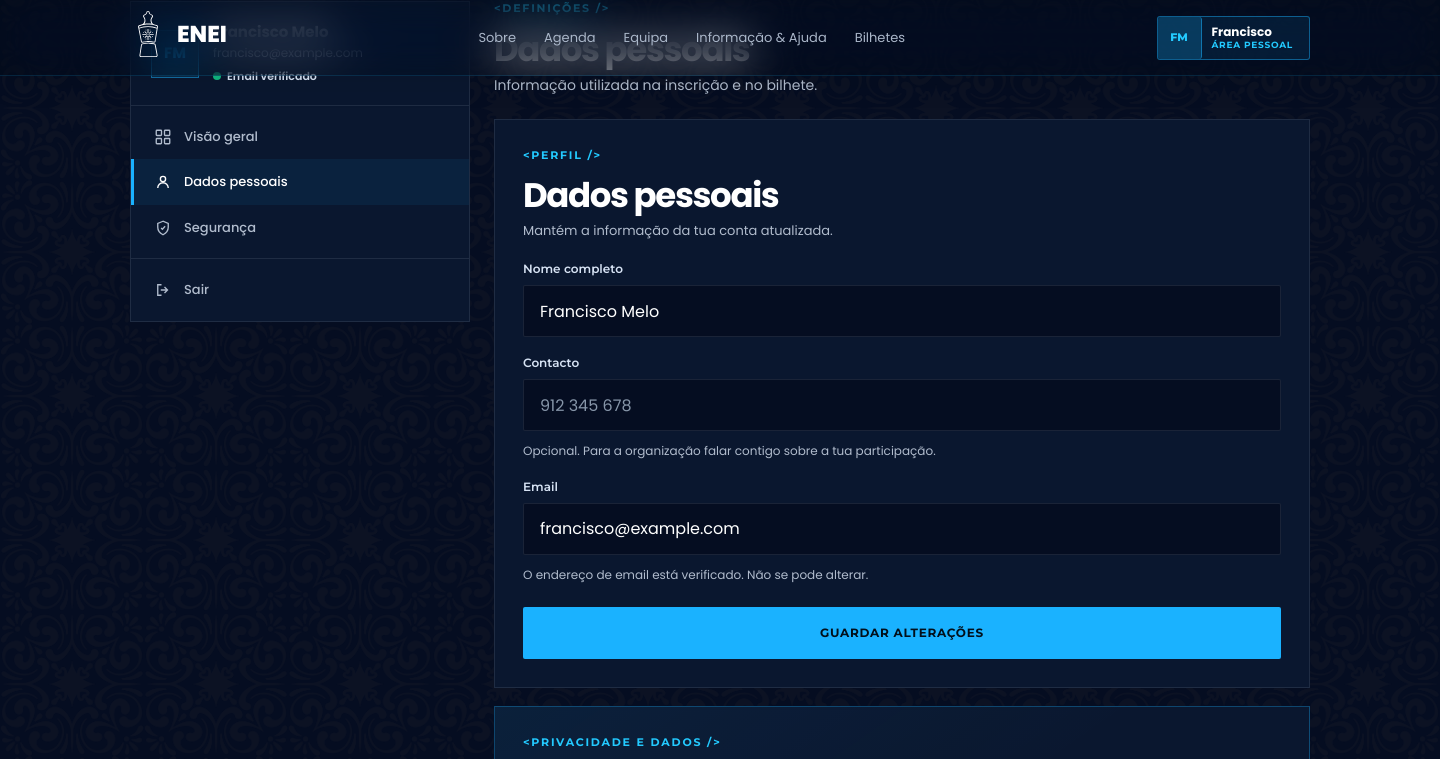
Test: Dados pessoais: contacto › tem o campo «Contacto» (opcional), antes do email, que se guarda normalizado junto com o nome
(page scrolled)
Expected: the field labelled "Email" is shown, [523,503,1281,555]
In the field labelled "Contacto": (902, 405) [523,379,1281,431], type "+351 912-345.678"
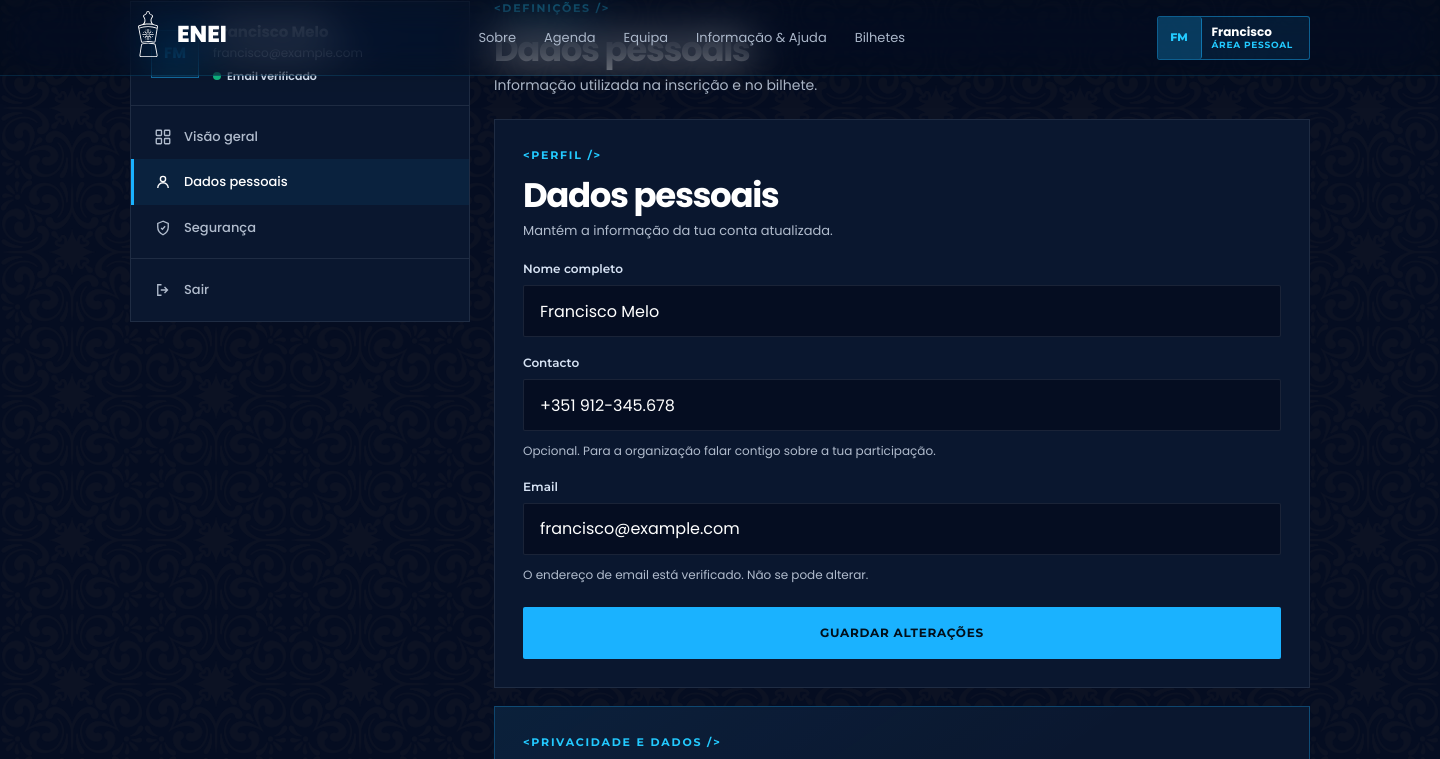
Click the button "Guardar alterações": click(902, 633) [523,607,1281,659]
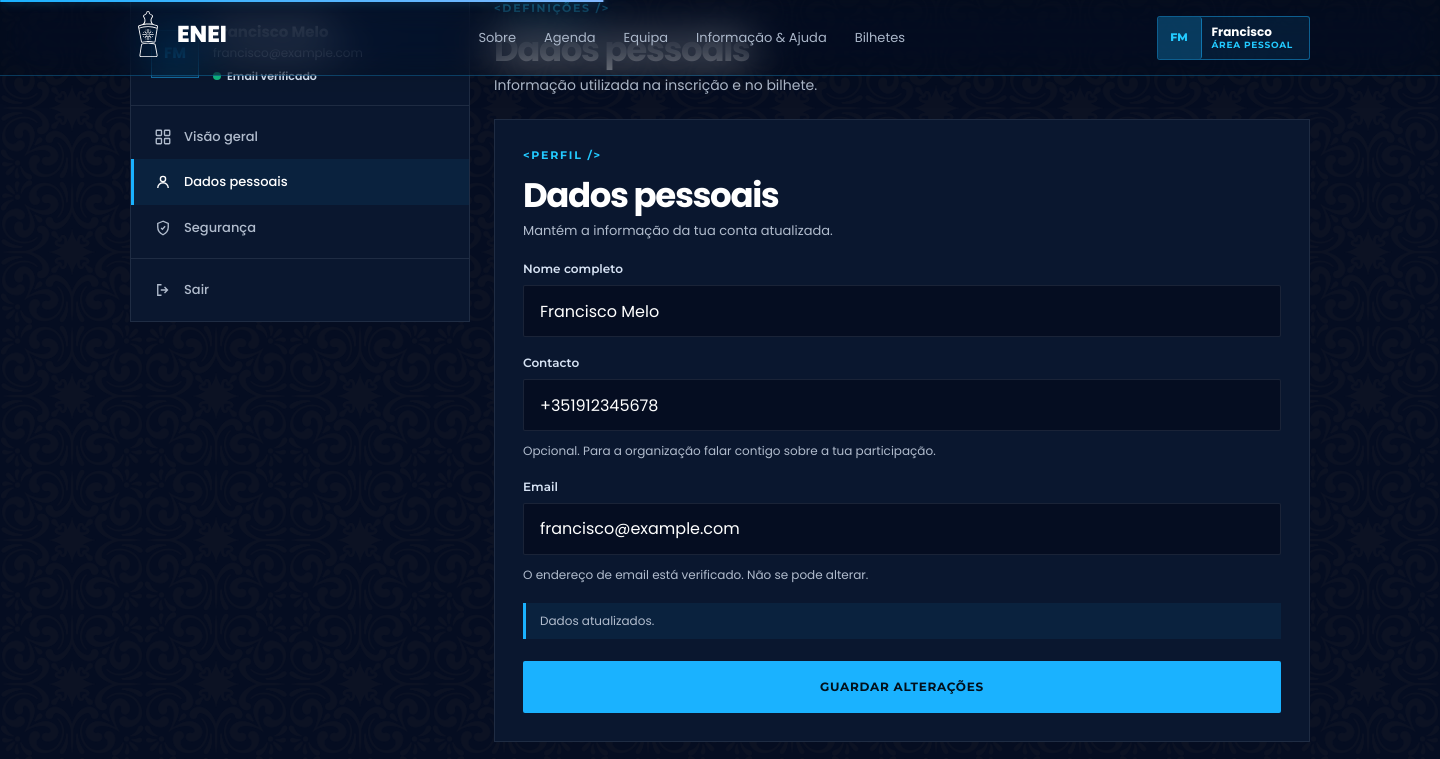
Expected: the text "Dados atualizados." is shown, [523,603,1281,639]
Expected: the field labelled "Contacto" holds "+351912345678", [523,379,1281,431]
